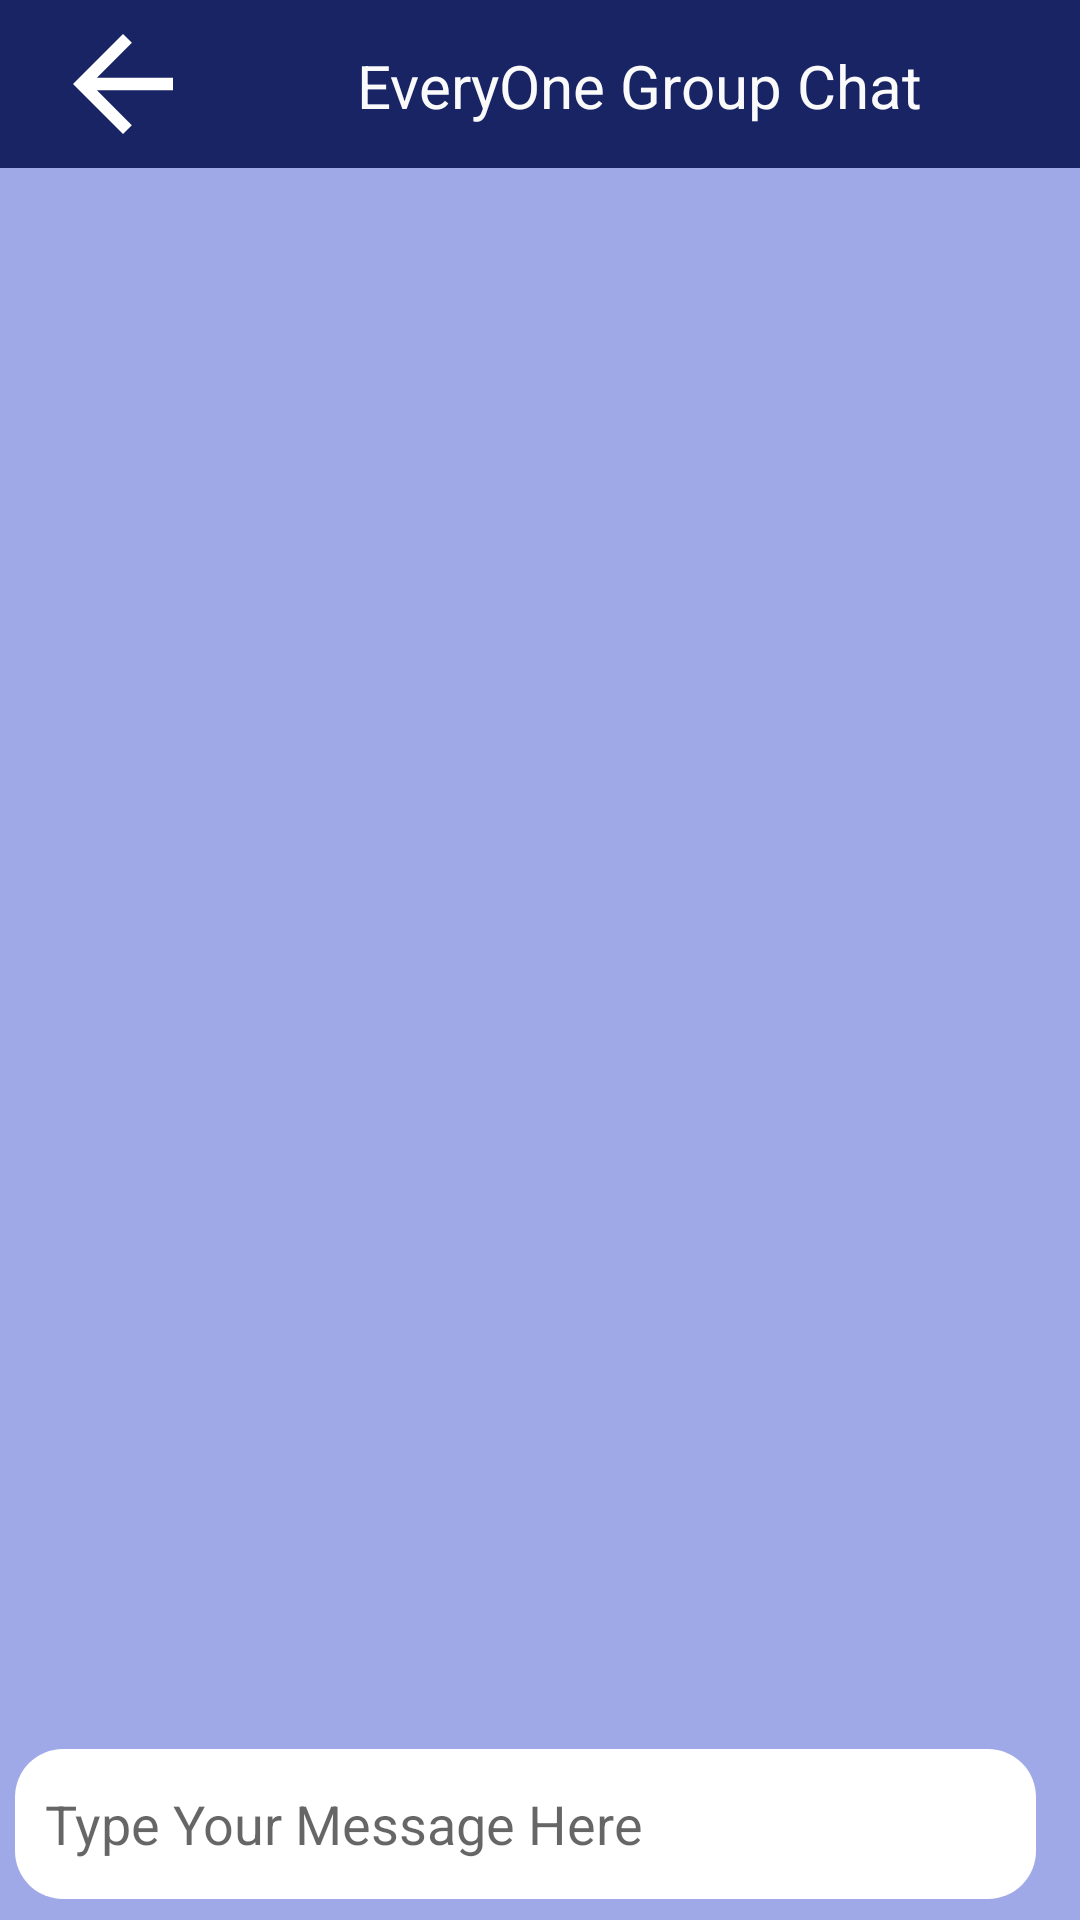

Locate icon controls on the screen. Image size 1080w x 1920h, boxes as (x1, y1, x2, y2).
arrow back: (73, 34, 173, 134)
